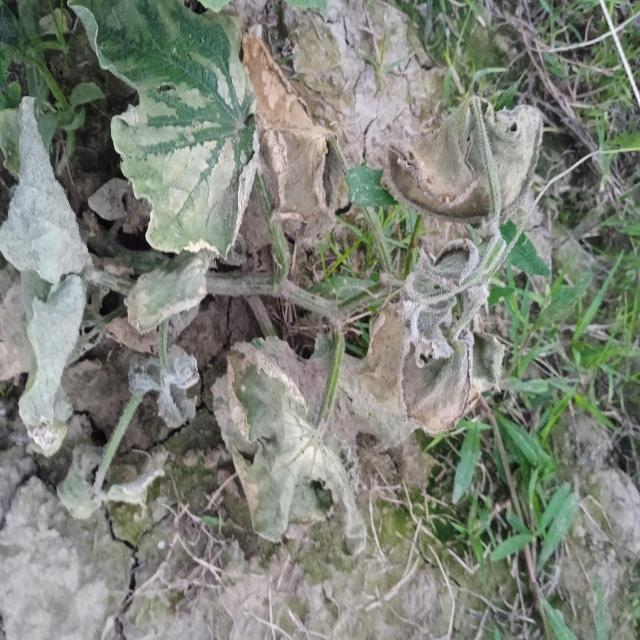cucumber_bacterial: (69, 3, 318, 263), (374, 89, 552, 423), (214, 337, 366, 572), (1, 88, 91, 469)
